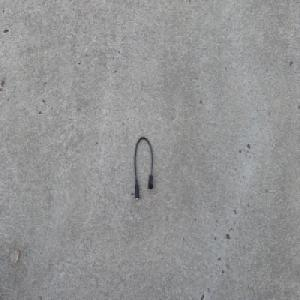Wire: (133, 136, 153, 201)
